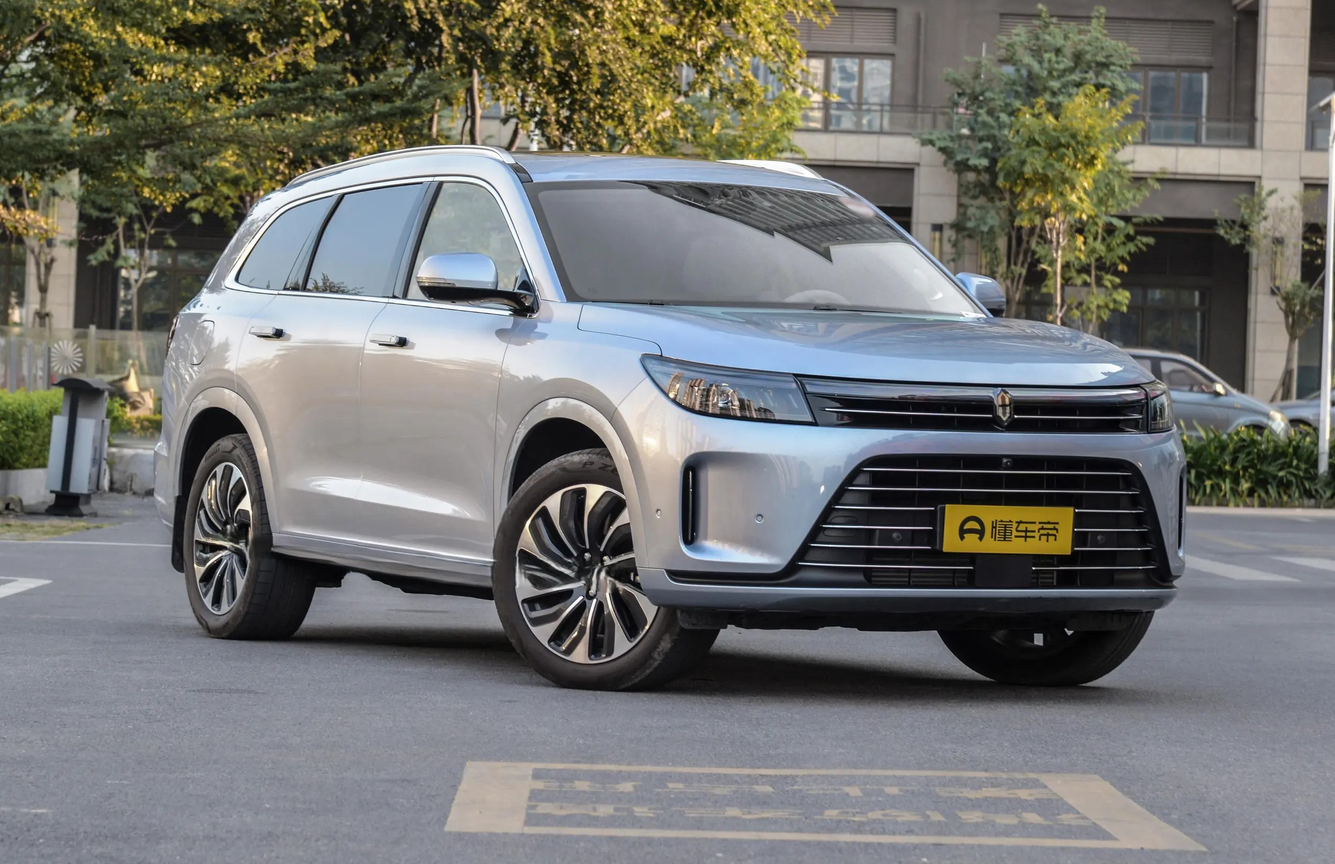AITO: (998, 391, 1009, 420)
